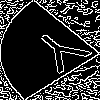Y: (25, 25, 100, 82)
